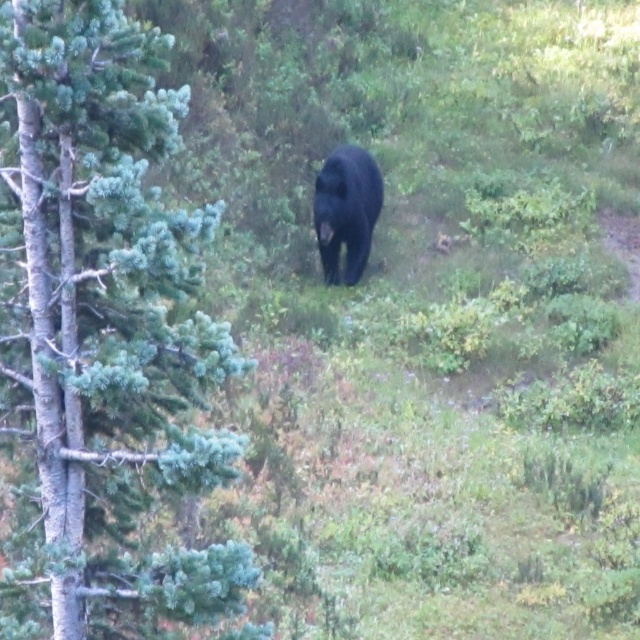Bear: (312, 143, 384, 287)
